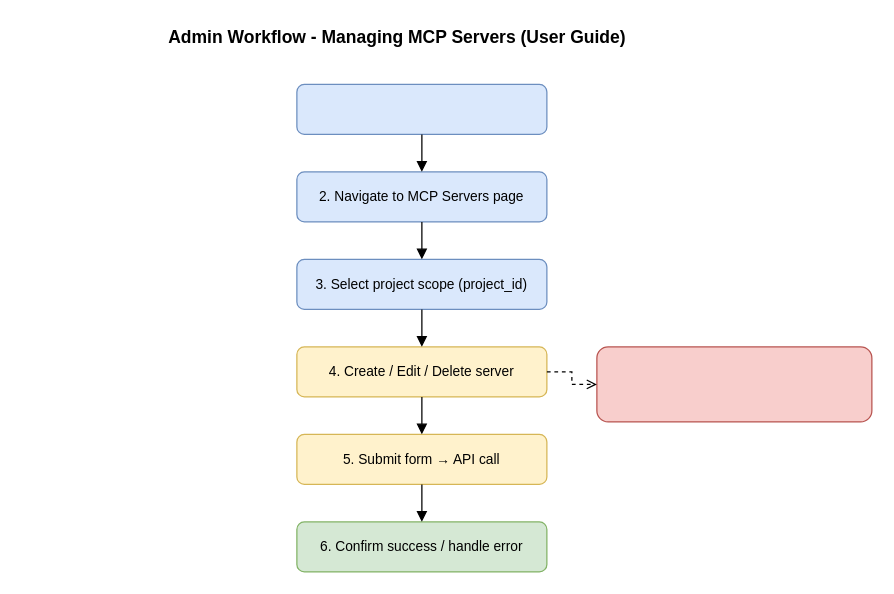
This 894x594 diagram has some shape labels left out. The shapes that lost their labels are listed below. From the top down, each one's centre as x and y in pixels, then its label:
At point 421,108: "1. Log in as admin".
At point 734,384: "Errors: - Name must be unique per project - Missing transport_type / url".
